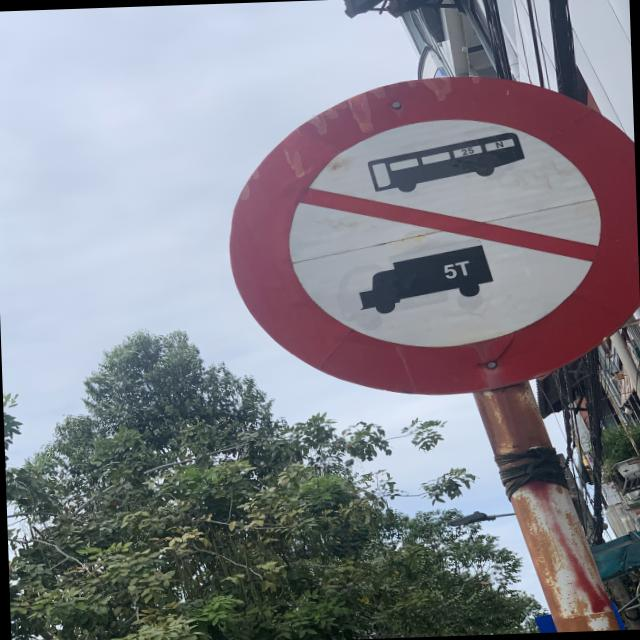Cam_XeTai_XeKhach: (226, 68, 640, 397)
